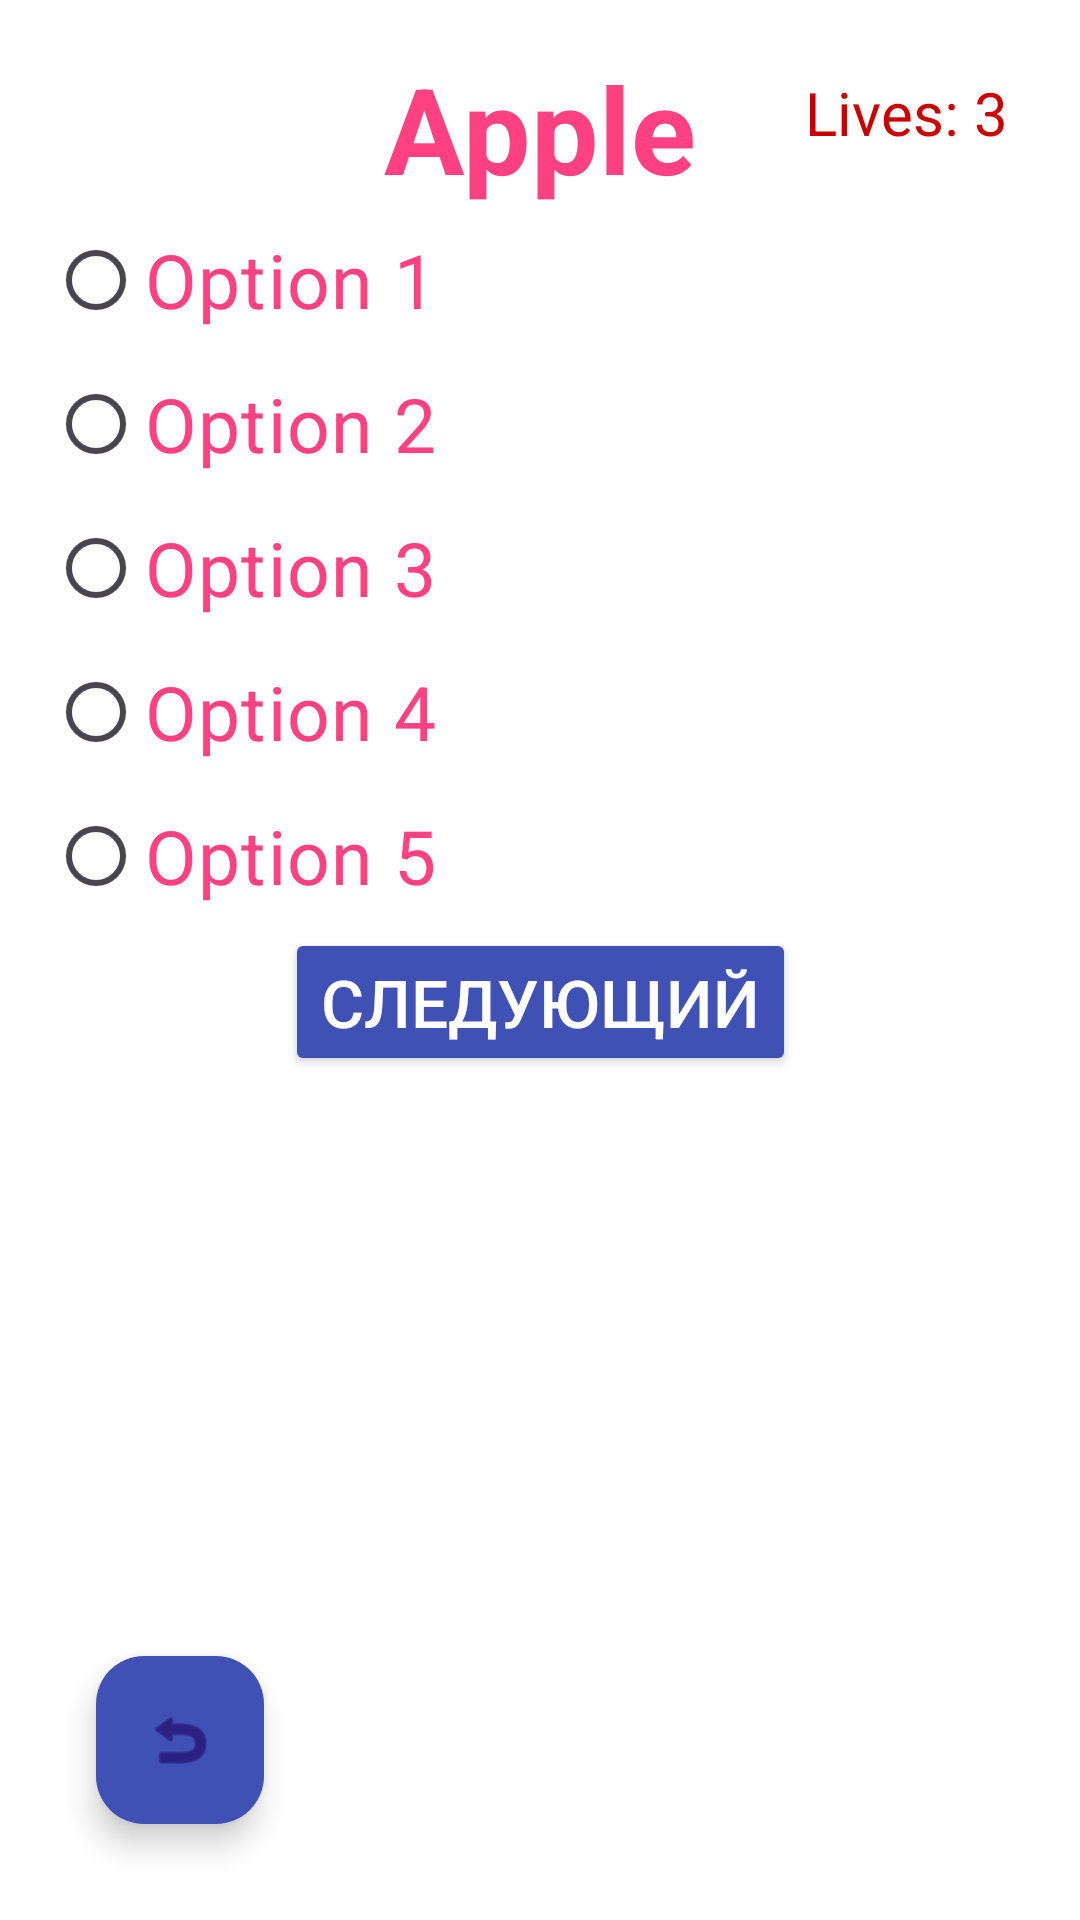

Icons on this 1080w x 1920h Android screen, each with the point to tap as point (x, y):
revert: point (180, 1740)
